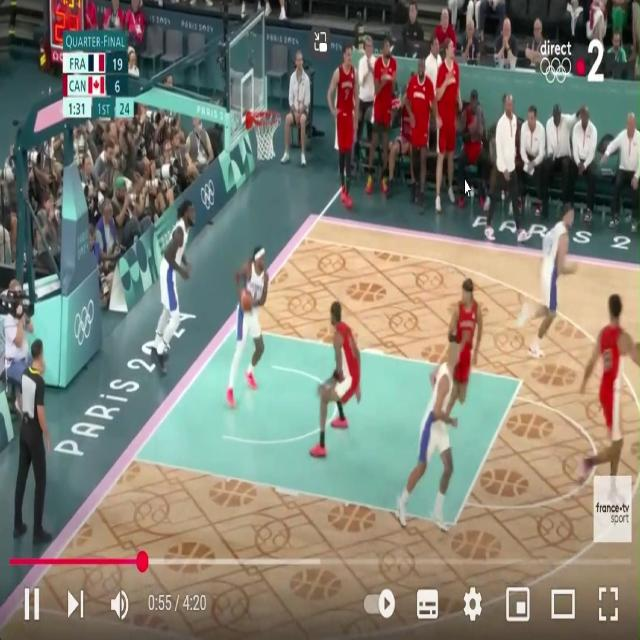ball_handler: (226, 247, 270, 408)
